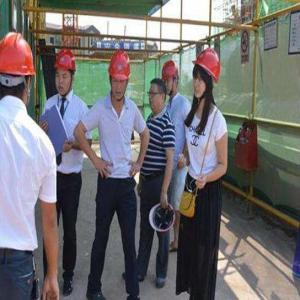none: (149, 78, 166, 112)
red: (3, 29, 35, 105), (193, 49, 221, 98), (109, 49, 132, 101), (54, 49, 79, 95), (163, 62, 180, 95)
